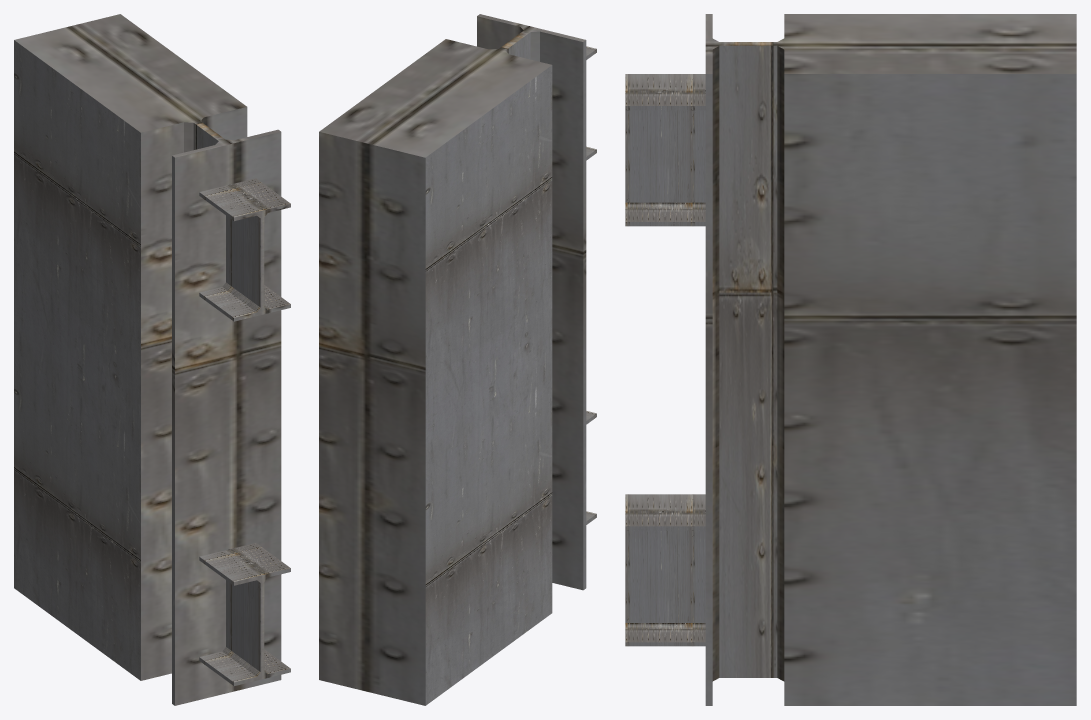
File: CT_Sign_Support_C_01.FBX
The picture shows the model from 3 angles, left to right: view 1: azimuth 30°, elevation 25°; view 2: azimuth 150°, elevation 25°; view 3: azimuth 270°, elevation 25°; orthographic projection. The views are drawn at different scales.
Visible parts, largest first — view 1: CT_Sign_Support_C_01; view 2: CT_Sign_Support_C_01; view 3: CT_Sign_Support_C_01.
Boxes of the visible parts, <box> form: CT_Sign_Support_C_01: <box>14,14,290,705</box>; CT_Sign_Support_C_01: <box>319,14,596,705</box>; CT_Sign_Support_C_01: <box>625,14,1076,705</box>.
Size of the model in its own units: 14.97 by 73.69 by 47.68.
